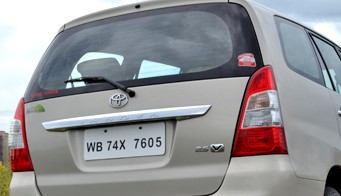WB74X7605: (84, 122, 165, 160)
